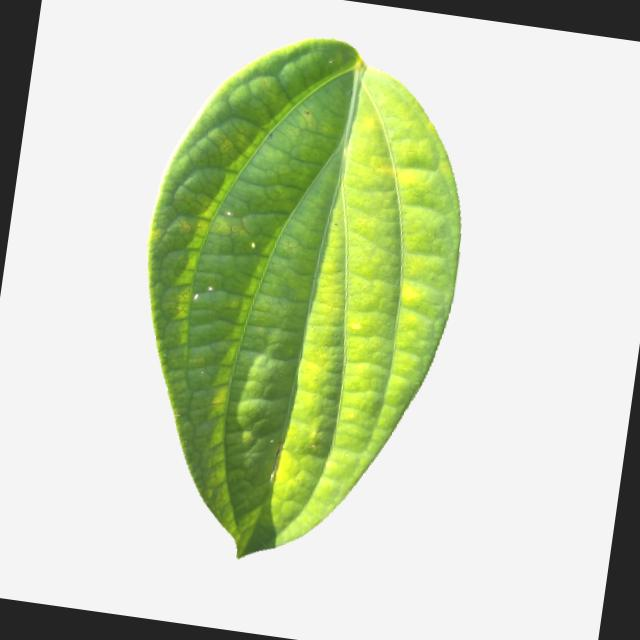healthy: (101, 16, 496, 589)
